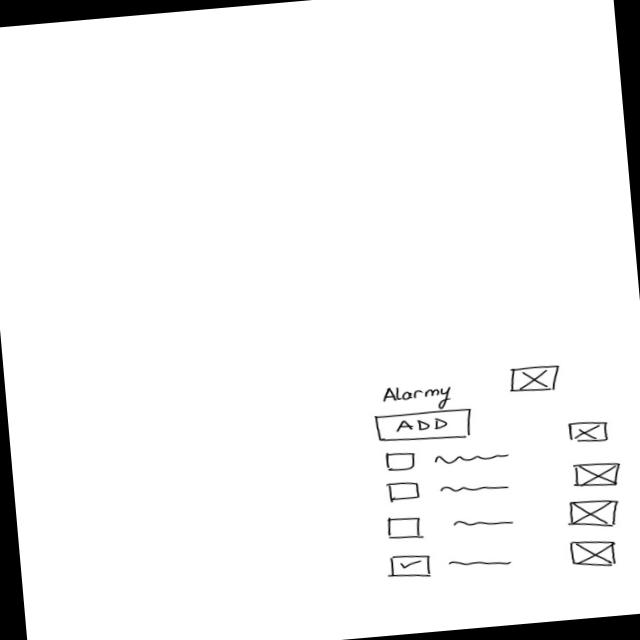button: (375, 408, 476, 447)
checkbox: (384, 507, 516, 545), (388, 545, 515, 583), (387, 473, 511, 505), (385, 443, 512, 474)
image: (569, 497, 623, 532), (507, 364, 563, 396), (570, 538, 619, 571), (572, 459, 623, 490), (567, 418, 611, 446)
label: (380, 381, 454, 416)
